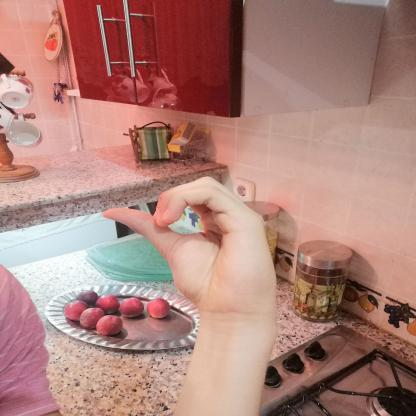WAW: (89, 167, 288, 327)
